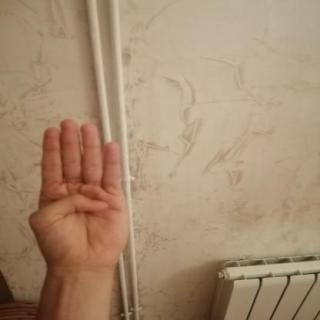KAAF: (15, 112, 144, 279)
